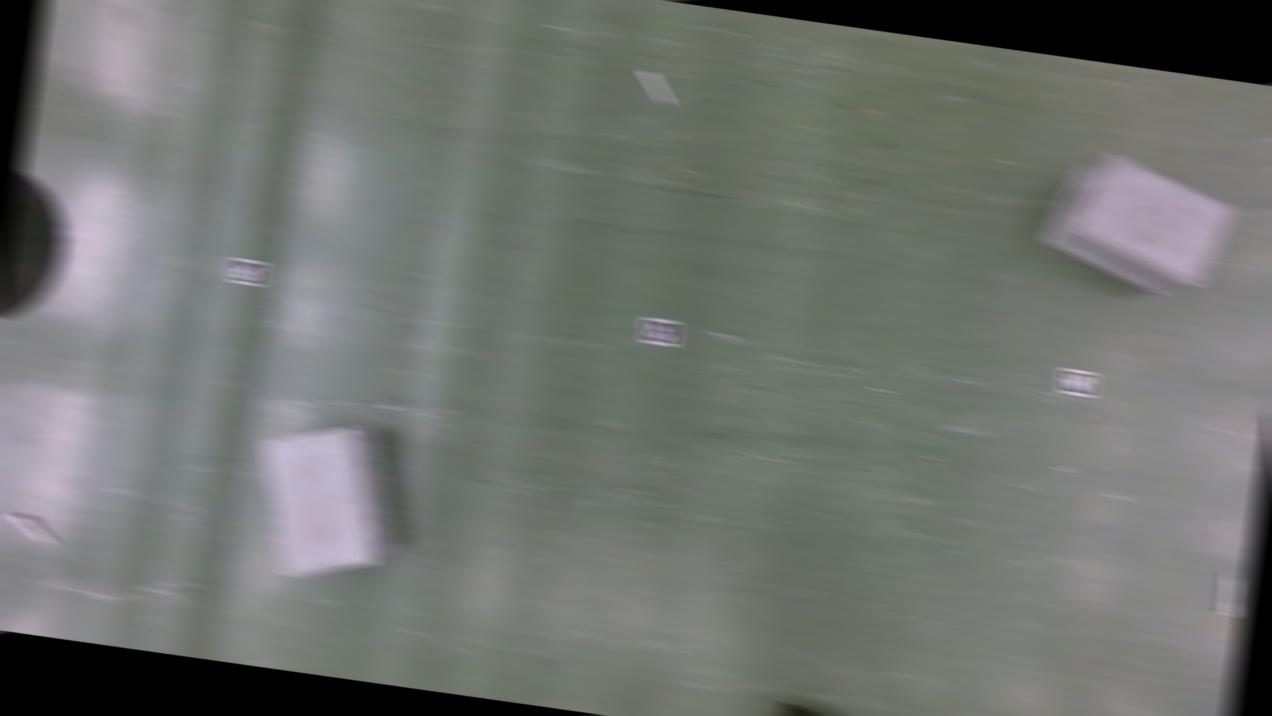probes: (9, 510, 57, 546), (636, 70, 674, 107), (1218, 572, 1242, 619)
rako: (1036, 148, 1239, 306), (244, 413, 415, 596)
